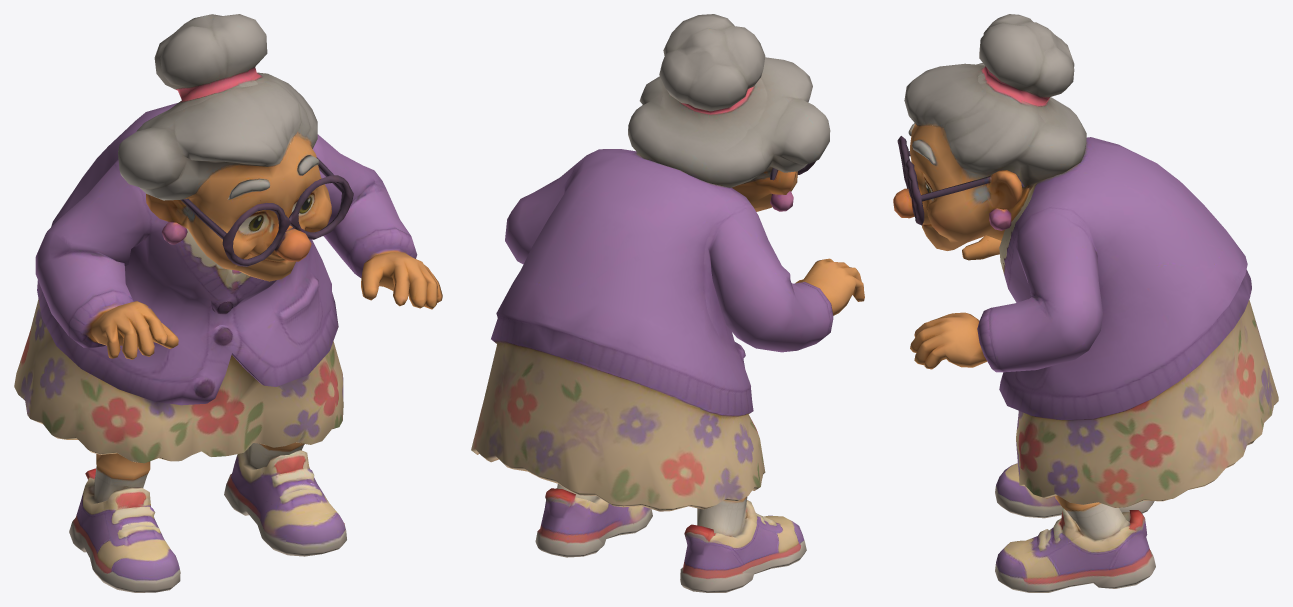
File: grandma.glb
3 views of the same model, side by side, from view 1: azimuth 30°, elevation 25°; view 2: azimuth 150°, elevation 25°; view 3: azimuth 270°, elevation 25° (orthographic). The views are drawn at different scales.
Visible parts, largest first — view 1: Hunched Grandma; view 2: Hunched Grandma; view 3: Hunched Grandma.
Part boxes in pixels (x1=…): Hunched Grandma: x1=14, y1=14, x2=442, y2=592; Hunched Grandma: x1=471, y1=14, x2=864, y2=592; Hunched Grandma: x1=893, y1=14, x2=1278, y2=592.
Size of the model in its own units: 0.627 by 0.998 by 0.6816.
Materials: 1 (1 with a texture image).
